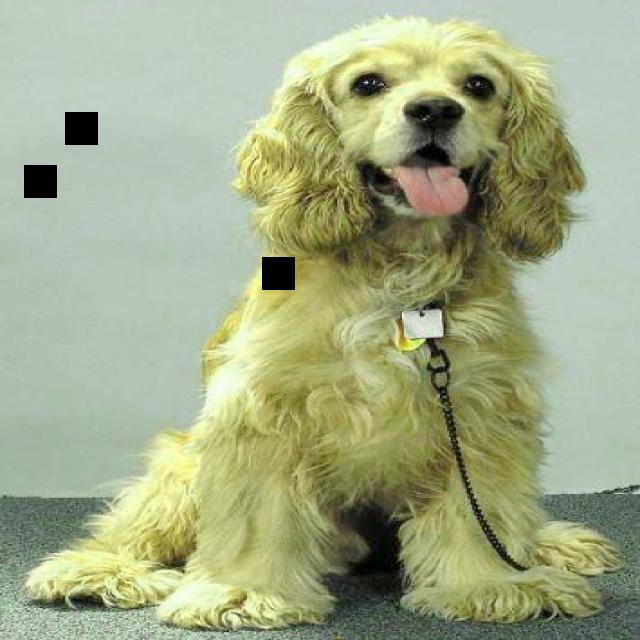adult_dog: (24, 15, 630, 631)
